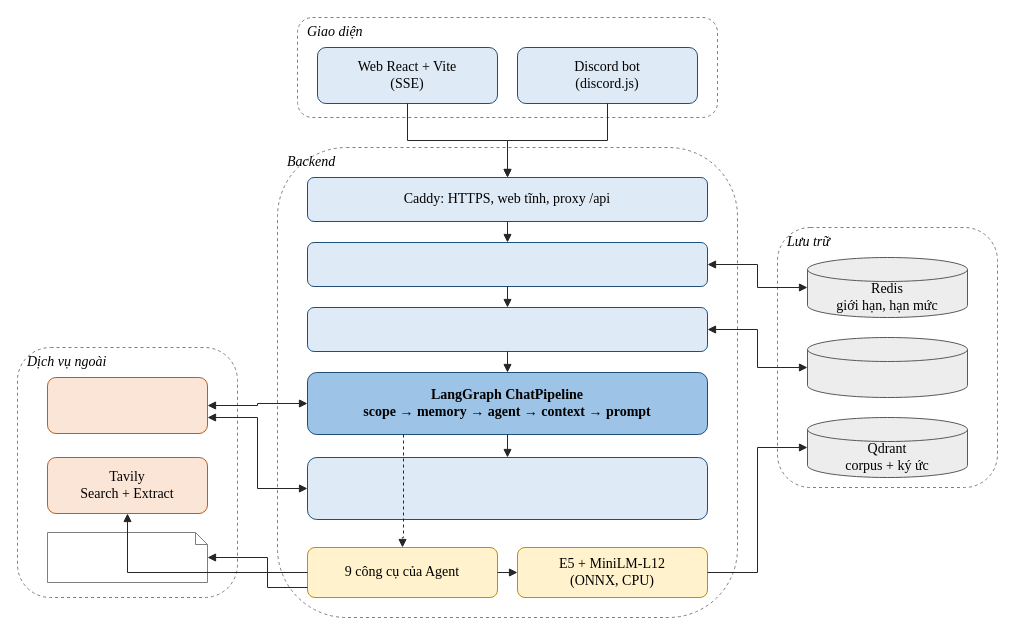
The diagram is 1015 pixels wide and 635 high, and some of its shapes have lost their labels. Here are the shapes that lost their labels. From the top down, the centre of each, then its label:
[507,264]: FastAPI: xác thực, giới hạn tần suất, hạn mức
[507,329]: Dịch vụ hỏi đáp: hội thoại, khóa, thời hạn, trace
[887,367]: PostgreSQL hội thoại, trace
[127,405]: DeepSeek API deepseek-flash
[507,488]: Bộ sinh JSON → kiểm trích dẫn → Answer Guard (song song: chọn ảnh)
[127,557]: Sandbox Python (tiến trình con)
